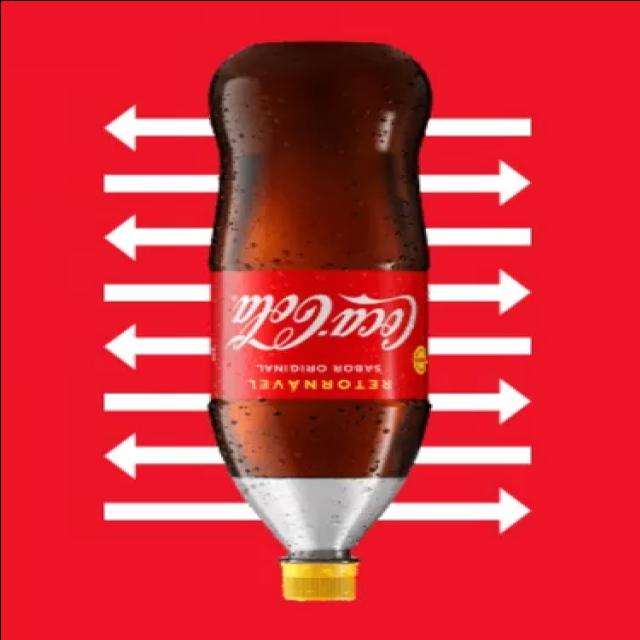bottom: (176, 35, 436, 117)
cap: (253, 530, 363, 604)
